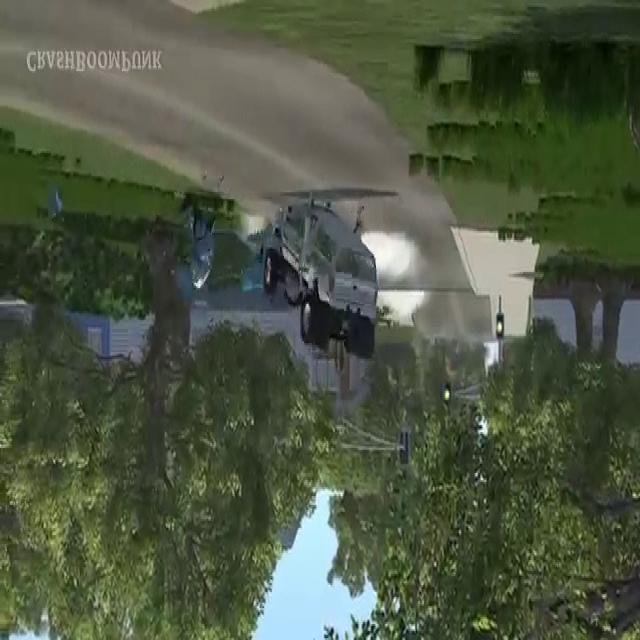severe: (258, 198, 380, 368)
